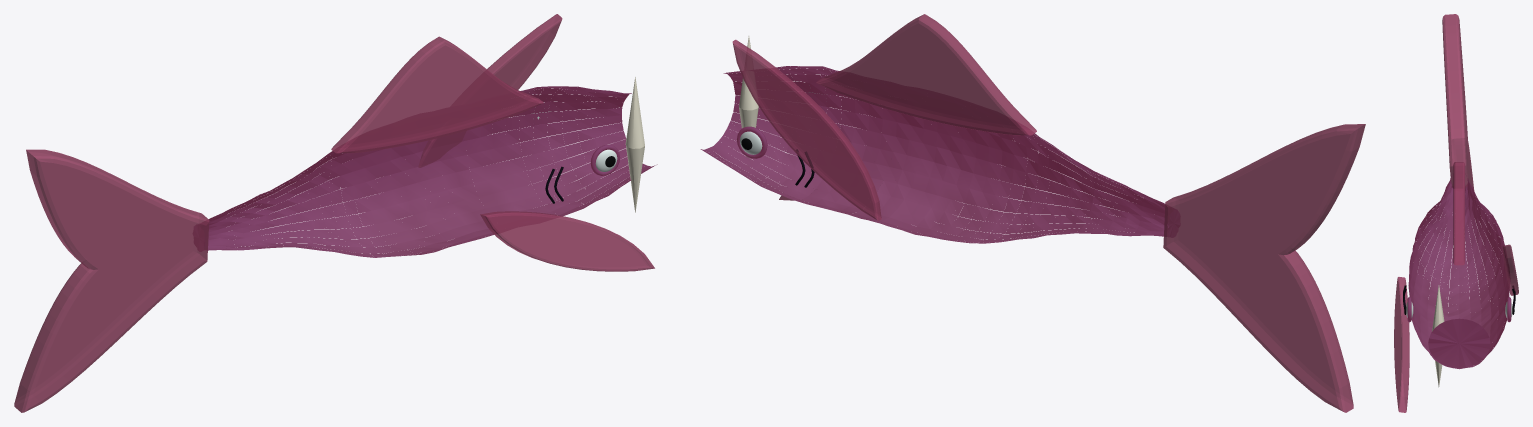
File: black-fang.glb
3 views of the same model, side by side, from view 1: azimuth 30°, elevation 25°; view 2: azimuth 150°, elevation 25°; view 3: azimuth 270°, elevation 25° (orthographic). The views are drawn at different scales.
Visible parts, largest first — view 1: body, tail_fin, dorsal_fin, pectoral_fin (×2), fang (×2); view 2: body, tail_fin, dorsal_fin, pectoral_fin; view 3: body, tail_fin, pectoral_fin (×2), dorsal_fin, fang.
Boxes of the visible parts, x1=… form: body: x1=193, y1=86, x2=657, y2=257; tail_fin: x1=14, y1=149, x2=209, y2=412; dorsal_fin: x1=331, y1=36, x2=543, y2=153; pectoral_fin (×2): x1=418, y1=14, x2=654, y2=271; fang (×2): x1=625, y1=77, x2=644, y2=212; body: x1=700, y1=66, x2=1180, y2=243; tail_fin: x1=1163, y1=124, x2=1365, y2=412; dorsal_fin: x1=816, y1=14, x2=1036, y2=135; pectoral_fin: x1=732, y1=39, x2=881, y2=220; body: x1=1408, y1=174, x2=1510, y2=369; tail_fin: x1=1442, y1=14, x2=1474, y2=190; pectoral_fin (×2): x1=1394, y1=244, x2=1518, y2=412; dorsal_fin: x1=1453, y1=162, x2=1464, y2=265; fang: x1=1432, y1=285, x2=1444, y2=331.
Size of the model in its own units: 3.19 by 1.35 by 0.734.
